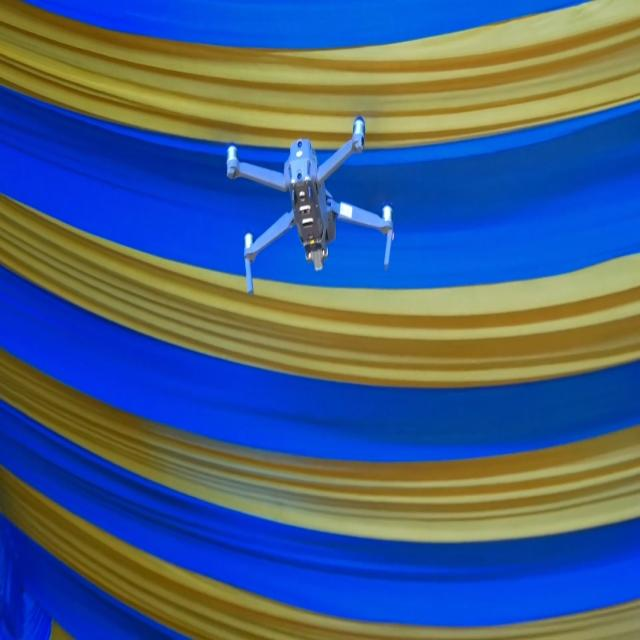Drone: (223, 113, 398, 301)
